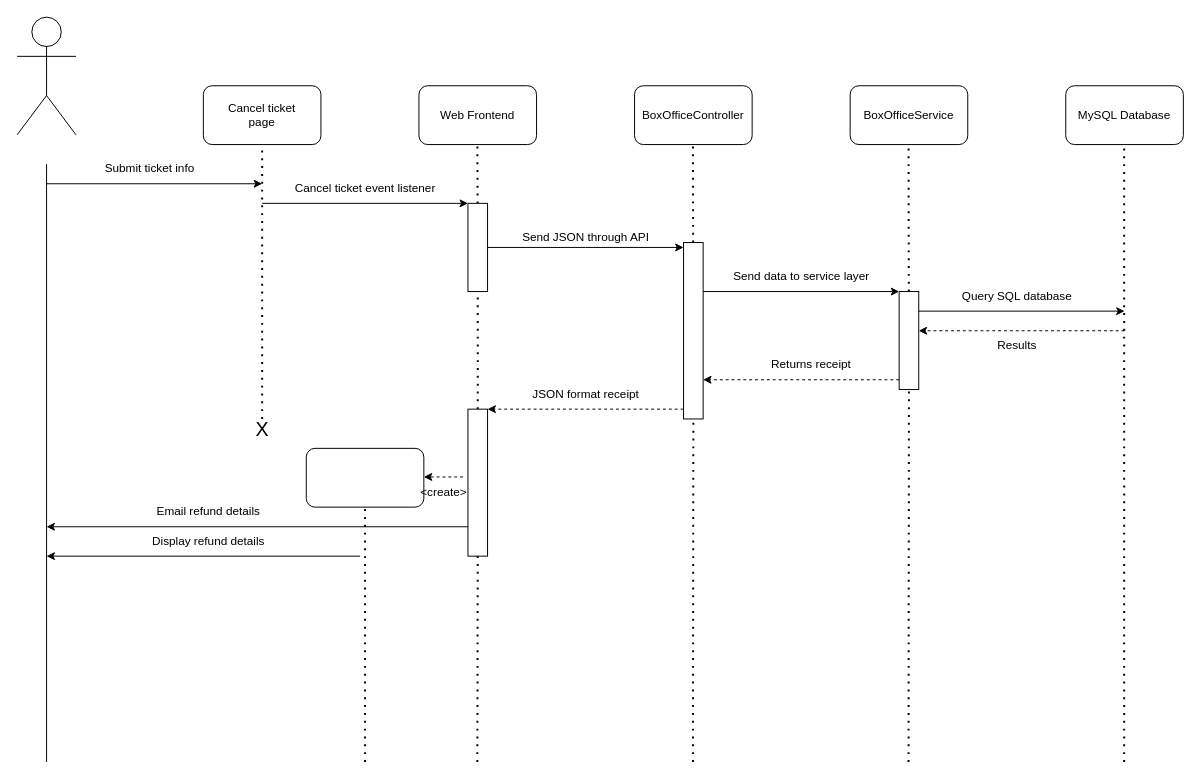
Image size: 1201x781. Some labels were removed from this diagram. Here are the shapes that lost their labels. From the top down, the centre of each, then its label:
the point at 46,75: User
the point at 364,477: Receipt page
